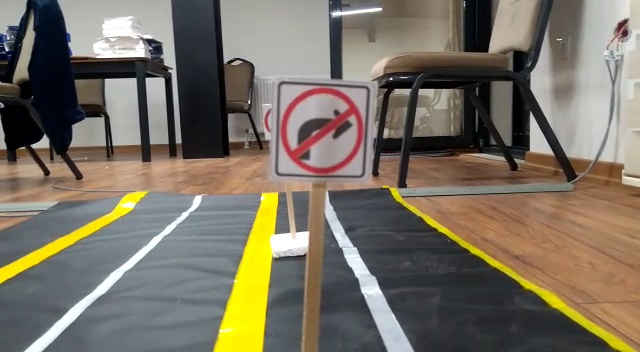saga_donulmez: (281, 83, 372, 176)
